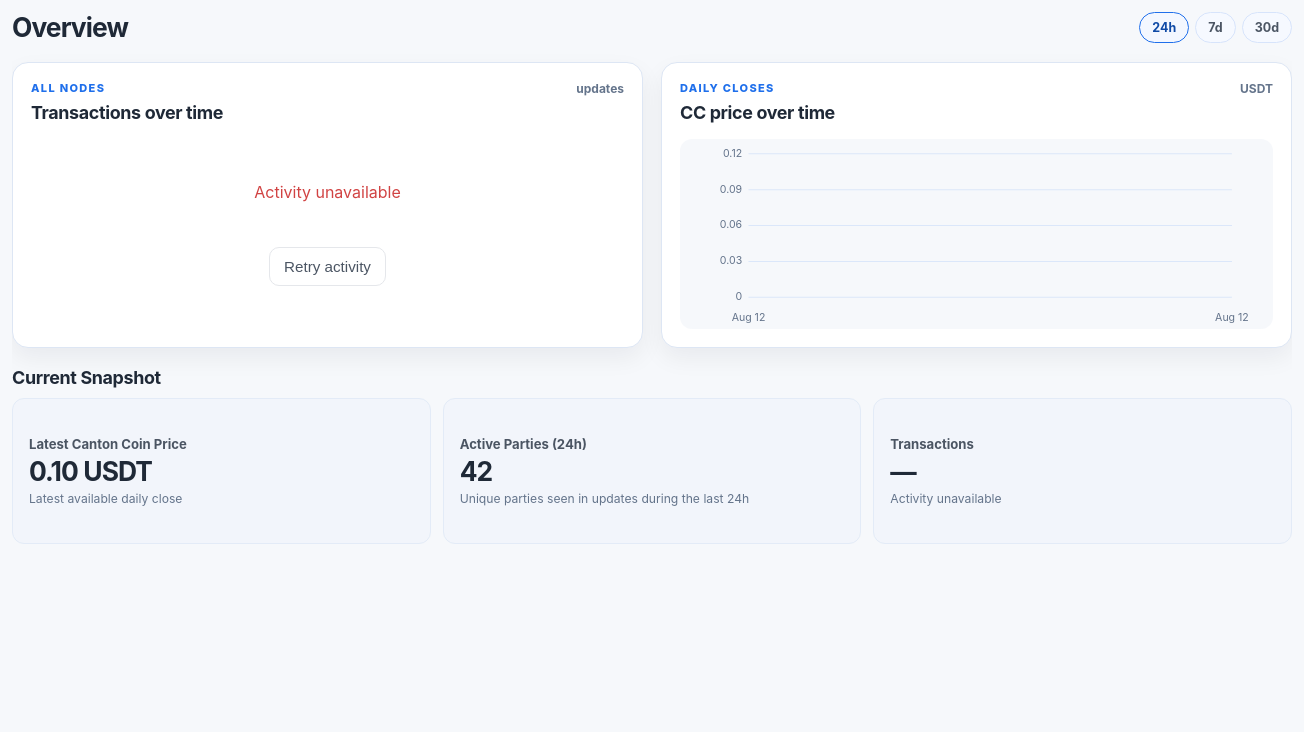
HomeDashboardOverview › retries only the failed activity section
Click the button "Retry activity" at (327,267), box 269,247 -> 386,286
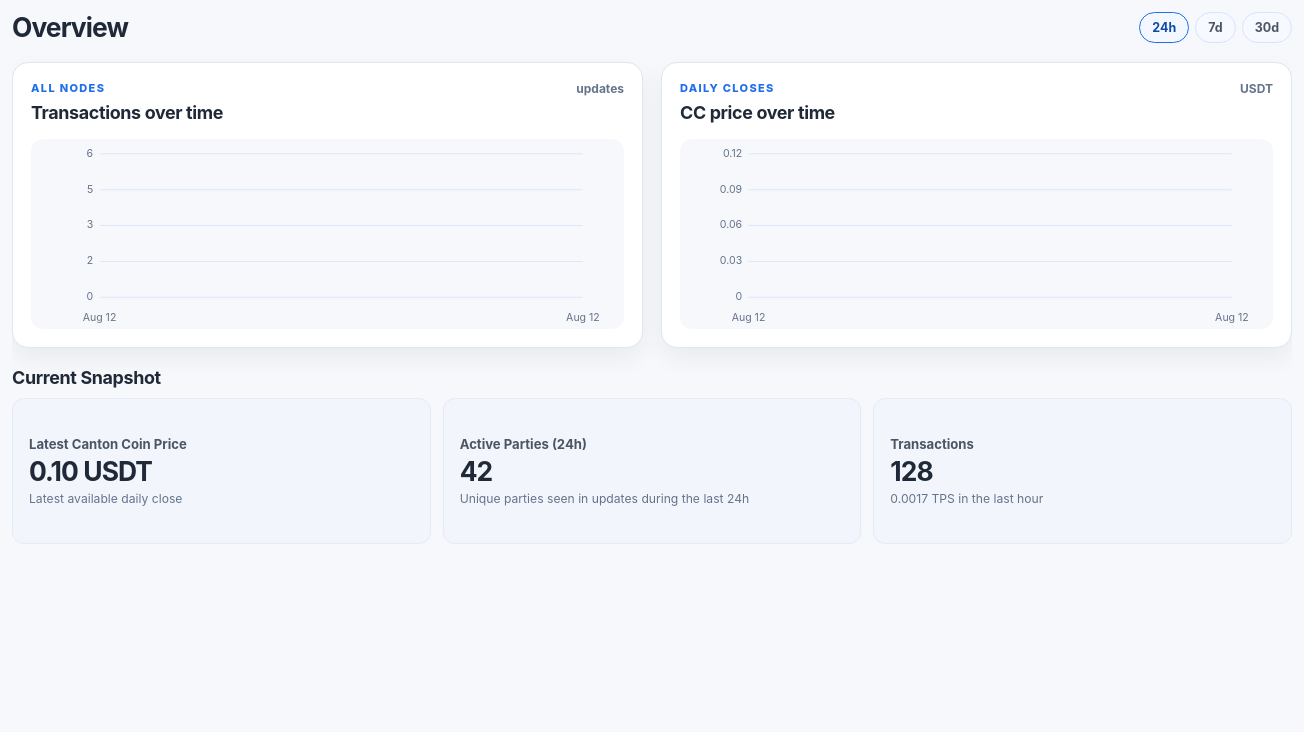
Expected: the picture named "Transactions over time chart" is shown, 31,139 -> 624,329
